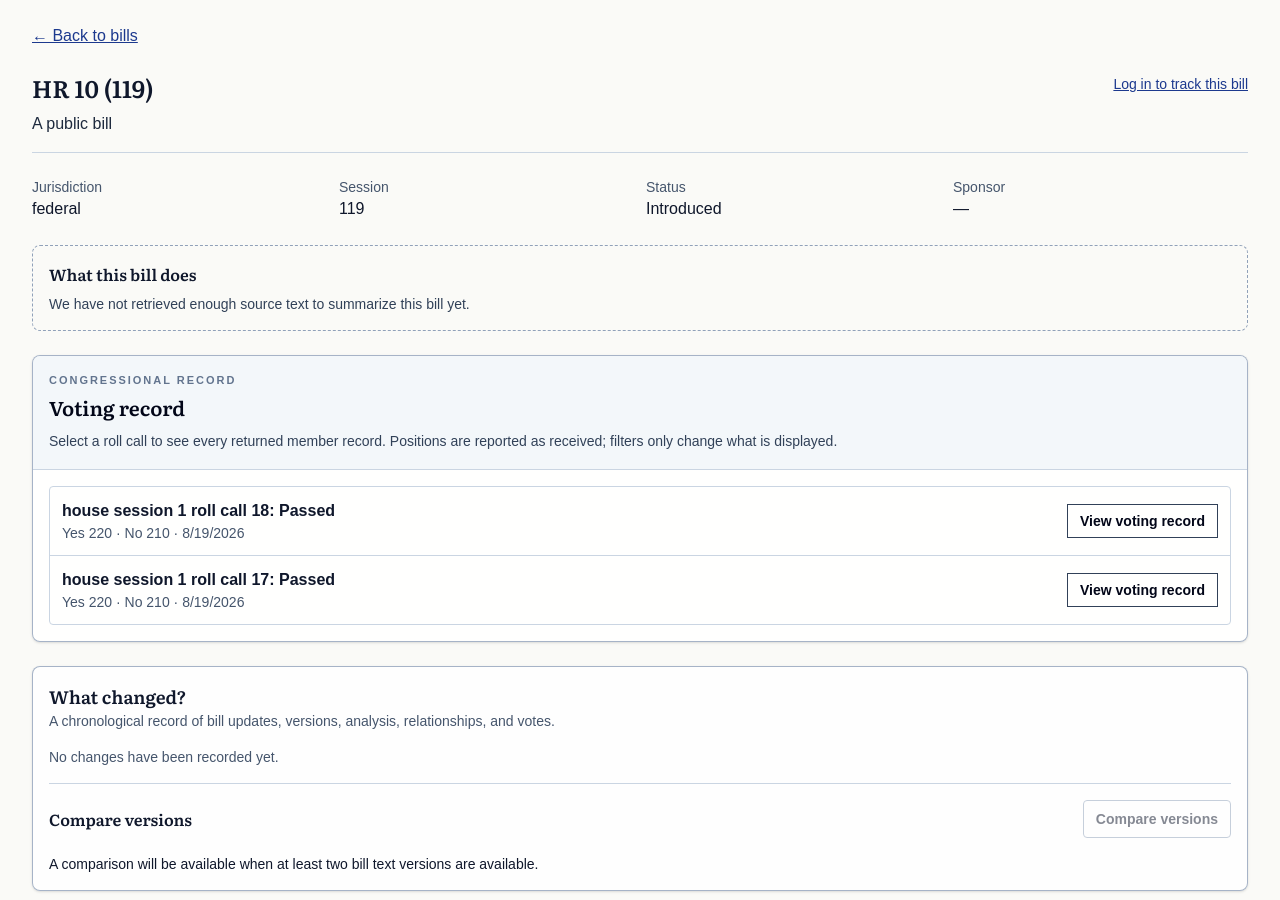
Scenario: BillDetailPage › ignores an older vote detail response that resolves after the active selection
Click the button "View voting record" in the row of "18" at (1142, 520), box [1067,504,1218,538]
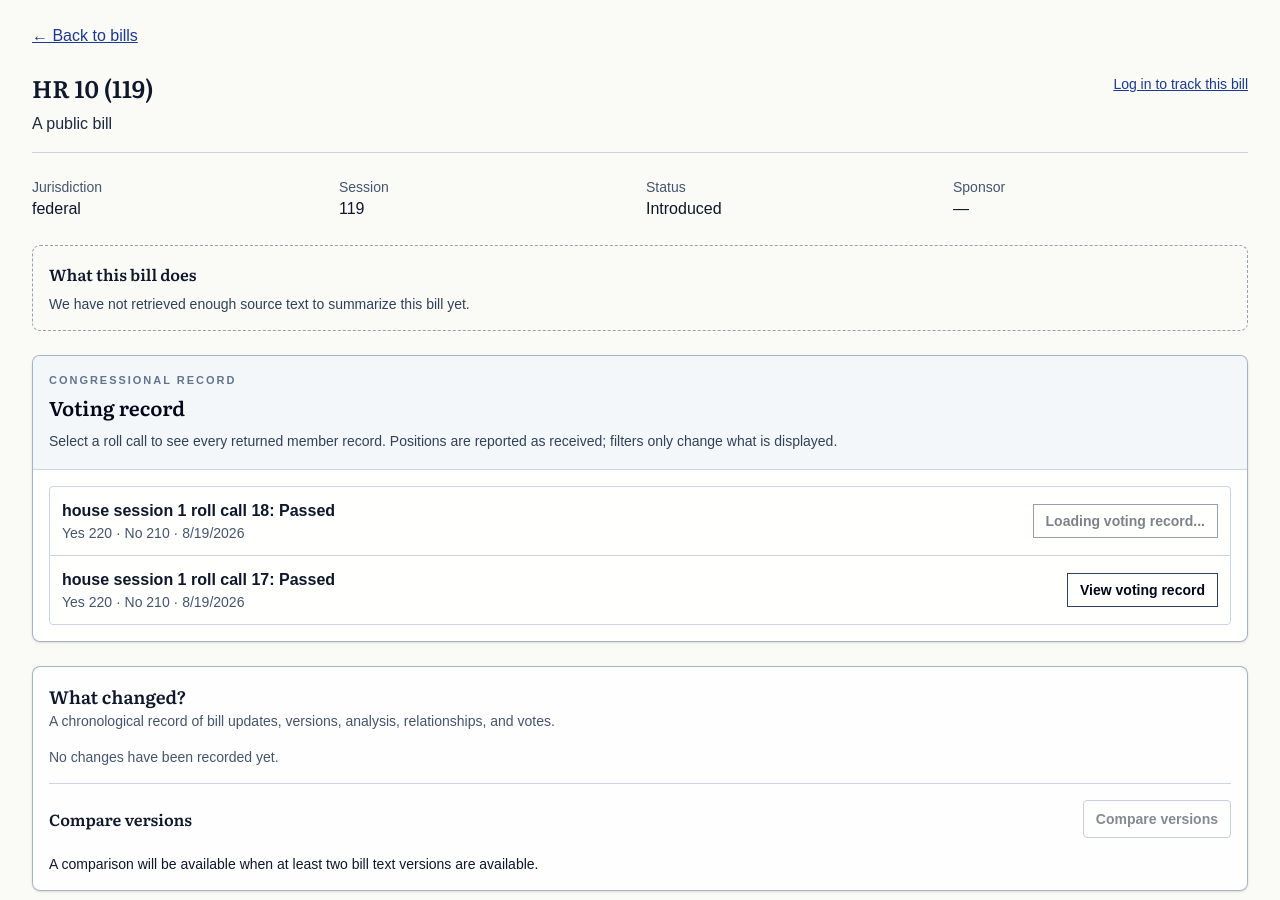
Click the button "View voting record" at (1142, 590), box [1067,572,1218,606]
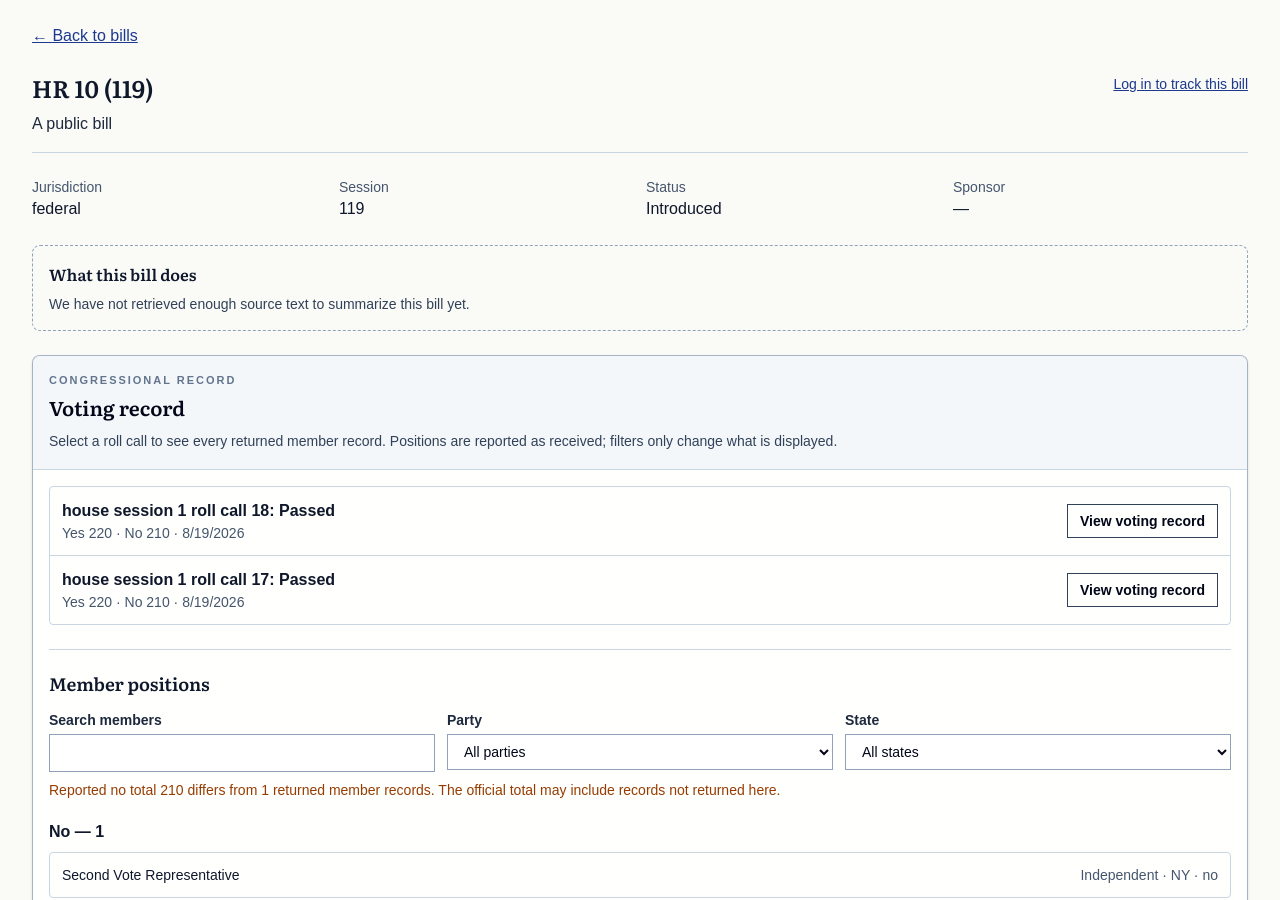
Expected: the text "Second Vote Representative" is shown, [62,864,240,884]
